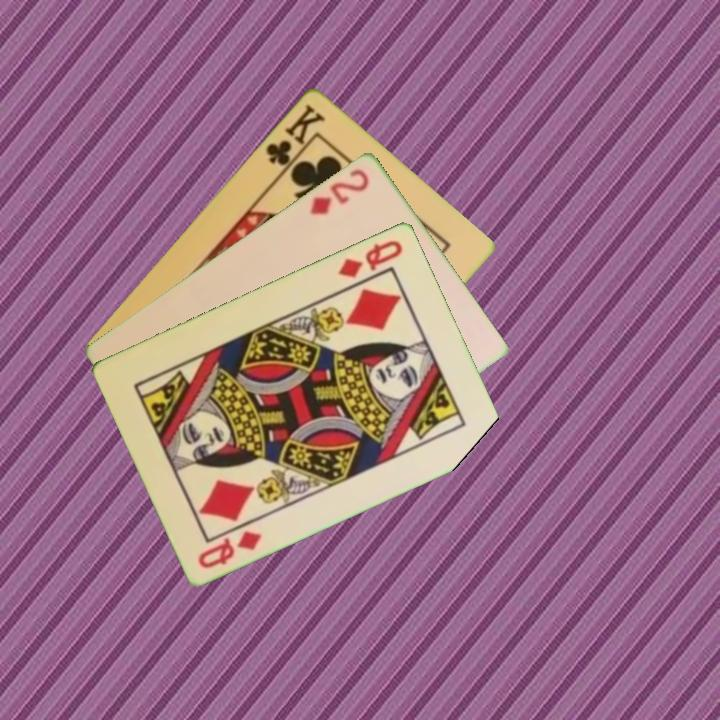2d: (306, 164, 373, 218)
Kc: (262, 99, 328, 178)
Qd: (334, 235, 406, 281), (194, 526, 265, 571)
